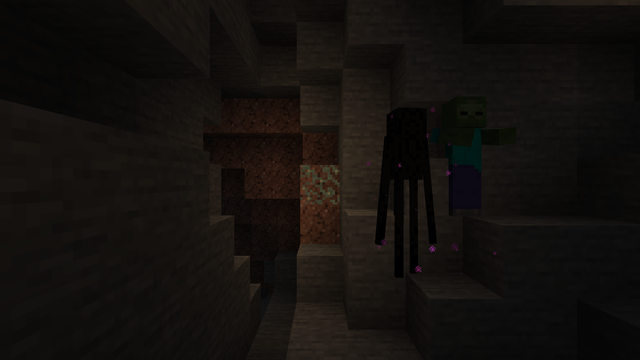endermens: (384, 101, 429, 278)
zombies: (437, 98, 490, 217)
